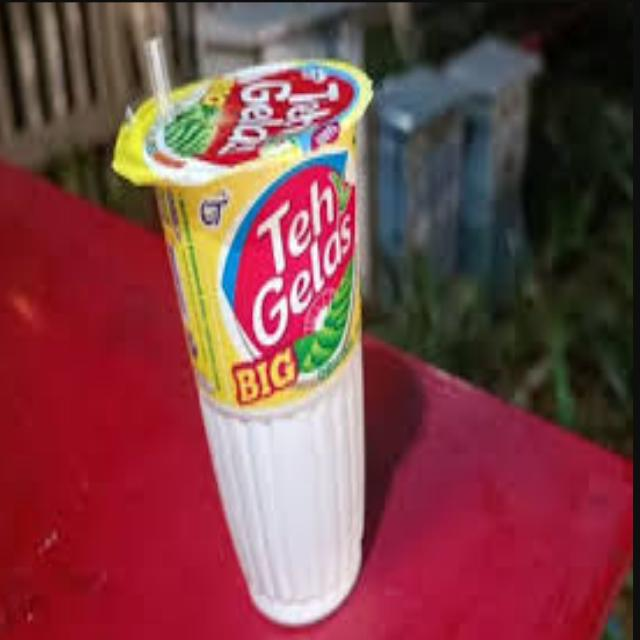GelasPlastik: (110, 41, 374, 627)
